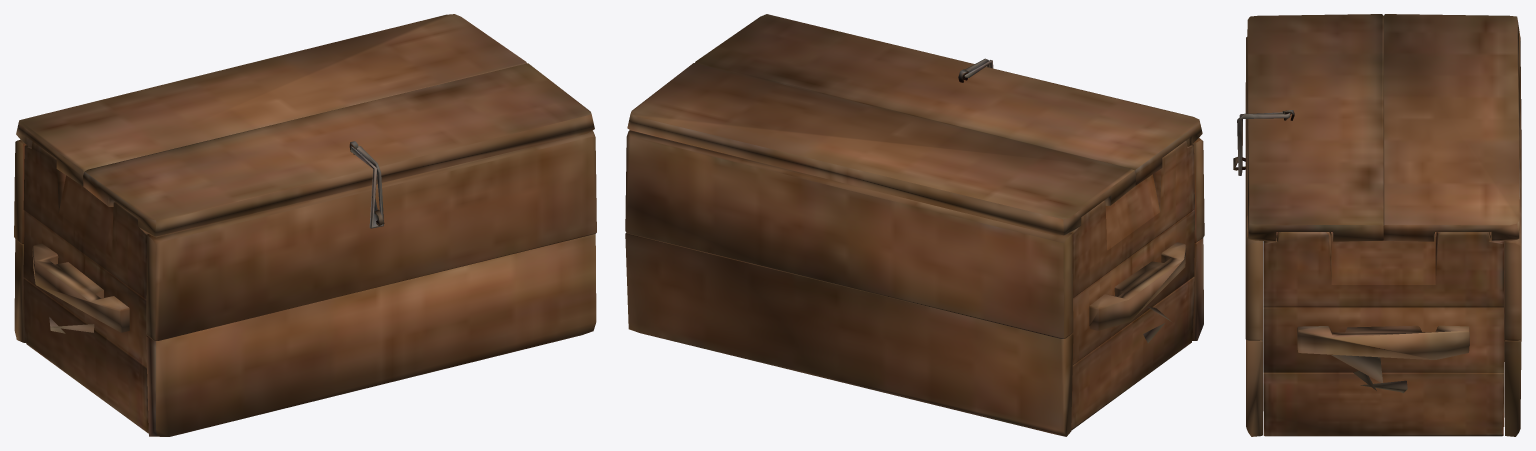
File: commun.glb
3 renders of one model, left to right at view 1: azimuth 30°, elevation 25°; view 2: azimuth 150°, elevation 25°; view 3: azimuth 270°, elevation 25°, orthographic. The views are drawn at different scales.
Visible parts, largest first — view 1: wooden_crate_01_lid; view 2: wooden_crate_01_lid; view 3: wooden_crate_01_lid.
Boxes of the visible parts, left/top/right/bottom form: wooden_crate_01_lid: left=14, top=14, right=596, bottom=436; wooden_crate_01_lid: left=625, top=14, right=1204, bottom=436; wooden_crate_01_lid: left=1233, top=14, right=1521, bottom=436.
Bounding box in the file's own units: 0.8131 × 0.3482 × 0.4058.
1 material, 1 textured.
